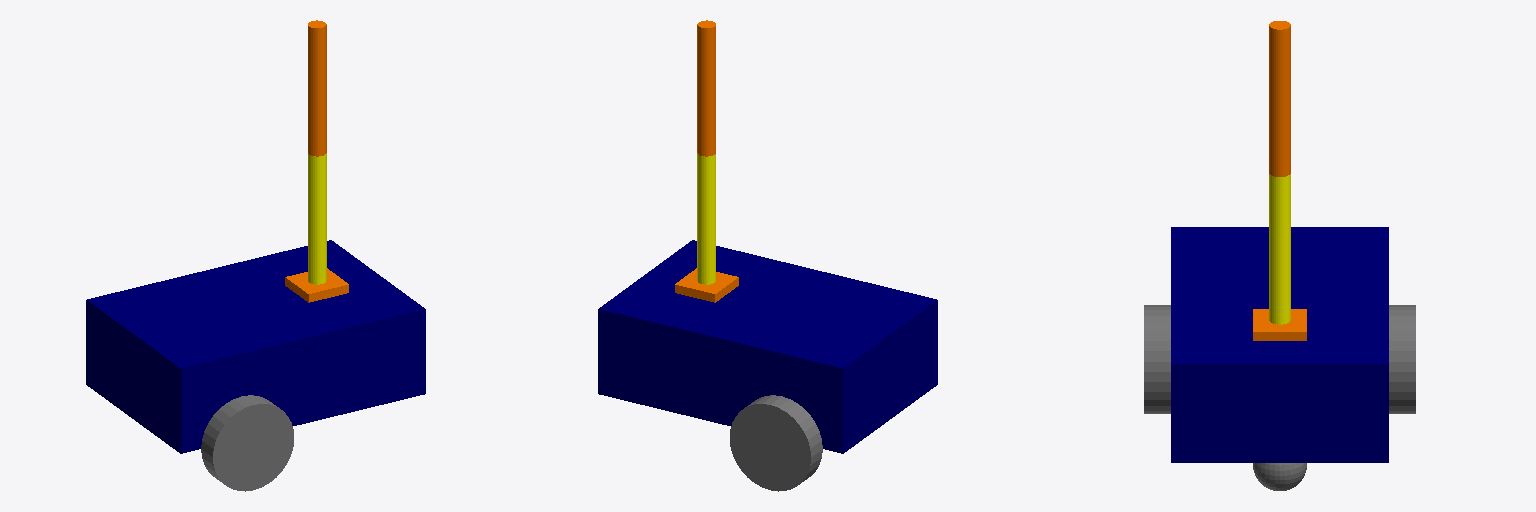
URDF robot description (my_robot):
<?xml version="1.0" ?>
<robot name="my_robot">
  <material name="blue">
    <color rgba="0 0 0.5 1"/>
  </material>
  <material name="grey">
    <color rgba="0.5 0.5 0.5 1"/>
  </material>
  <material name="orange">
    <color rgba="1.0 0.5 0 1"/>
  </material>
  <material name="yellow">
    <color rgba="1.0 1.0 0 1"/>
  </material>
  <link name="base_footprint"/>
  <link name="base_link">
    <visual>
      <geometry>
        <box size="0.6 0.4 0.2"/>
      </geometry>
      <origin rpy="0 0 0" xyz="0 0 0.1"/>
      <material name="blue"/>
    </visual>
    <collision>
      <geometry>
        <box size="0.6 0.4 0.2"/>
      </geometry>
      <origin rpy="0 0 0" xyz="0 0 0.1"/>
    </collision>
    <inertial>
      <origin rpy="0 0 0" xyz="0 0 0.1"/>
      <mass value="5.0"/>
      <inertia ixx="0.6666666666666667" ixy="0" ixz="0" iyy="0.8666666666666667" iyz="0" izz="0.3333333333333334"/>
    </inertial>
  </link>
  <link name="right_wheel_link">
    <visual>
      <geometry>
        <cylinder length="0.05" radius="0.1"/>
      </geometry>
      <origin rpy="1.5707963267948966 0 0" xyz="0 0 0"/>
      <material name="grey"/>
    </visual>
    <collision>
      <geometry>
        <cylinder length="0.05" radius="0.1"/>
      </geometry>
      <origin rpy="1.5707963267948966 0 0" xyz="0 0 0"/>
    </collision>
    <inertial>
      <origin rpy="1.5707963267948966 0 0" xyz="0 0 0"/>
      <mass value="1.0"/>
      <inertia ixx="0.010833333333333335" ixy="0" ixz="0" iyy="0.010833333333333335" iyz="0" izz="0.020000000000000004"/>
    </inertial>
  </link>
  <link name="left_wheel_link">
    <visual>
      <geometry>
        <cylinder length="0.05" radius="0.1"/>
      </geometry>
      <origin rpy="1.5707963267948966 0 0" xyz="0 0 0"/>
      <material name="grey"/>
    </visual>
    <collision>
      <geometry>
        <cylinder length="0.05" radius="0.1"/>
      </geometry>
      <origin rpy="1.5707963267948966 0 0" xyz="0 0 0"/>
    </collision>
    <inertial>
      <origin rpy="1.5707963267948966 0 0" xyz="0 0 0"/>
      <mass value="1.0"/>
      <inertia ixx="0.010833333333333335" ixy="0" ixz="0" iyy="0.010833333333333335" iyz="0" izz="0.020000000000000004"/>
    </inertial>
  </link>
  <link name="caster_wheel_link">
    <visual>
      <geometry>
        <sphere radius="0.05"/>
      </geometry>
      <origin rpy="0 0 0" xyz="0 0 0"/>
      <material name="grey"/>
    </visual>
    <collision>
      <geometry>
        <sphere radius="0.05"/>
      </geometry>
      <origin rpy="0 0 0" xyz="0 0 0"/>
    </collision>
    <inertial>
      <origin rpy="0 0 0" xyz="0 0 0"/>
      <mass value="0.5"/>
      <inertia ixx="0.0020000000000000005" ixy="0" ixz="0" iyy="0.0020000000000000005" iyz="0" izz="0.0020000000000000005"/>
    </inertial>
  </link>
  <joint name="base_joint" type="fixed">
    <parent link="base_footprint"/>
    <child link="base_link"/>
    <origin rpy="0 0 0" xyz="0 0 0.1"/>
  </joint>
  <joint name="base_right_wheel_joint" type="continuous">
    <parent link="base_link"/>
    <child link="right_wheel_link"/>
    <origin rpy="0 0 0" xyz="-0.15 -0.225 0"/>
    <axis xyz="0 1 0"/>
  </joint>
  <joint name="base_left_wheel_joint" type="continuous">
    <parent link="base_link"/>
    <child link="left_wheel_link"/>
    <origin rpy="0 0 0" xyz="-0.15 0.225 0"/>
    <axis xyz="0 1 0"/>
  </joint>
  <joint name="base_caster_wheel_joint" type="fixed">
    <parent link="base_link"/>
    <child link="caster_wheel_link"/>
    <origin rpy="0 0 0" xyz="0.19999999999999998 0 -0.05"/>
  </joint>
  <gazebo reference="base_link">
    <material>Gazebo/Blue</material>
  </gazebo>
  <gazebo reference="right_wheel_link">
    <material>Gazebo/Grey</material>
  </gazebo>
  <gazebo reference="left_wheel_link">
    <material>Gazebo/Grey</material>
  </gazebo>
  <gazebo reference="caster_wheel_link">
    <material>Gazebo/Grey</material>
    <mu1 value="0.1"/>
    <mu2 value="0.1"/>
  </gazebo>
  <gazebo>
    <plugin filename="libgazebo_ros_diff_drive.so" name="diff_drive_controller">
      <!-- Update rate in Hz -->
      <update_rate>50</update_rate>
      <!-- wheels -->
      <left_joint>base_left_wheel_joint</left_joint>
      <right_joint>base_right_wheel_joint</right_joint>
      <!-- kinematics -->
      <wheel_separation>0.45</wheel_separation>
      <wheel_diameter>0.2</wheel_diameter>
      <!-- output -->
      <publish_odom>true</publish_odom>
      <publish_odom_tf>true</publish_odom_tf>
      <publish_wheel_tf>true</publish_wheel_tf>
      <odometry_topic>odom</odometry_topic>
      <odometry_frame>odom</odometry_frame>
      <robot_base_frame>base_footprint</robot_base_frame>
    </plugin>
  </gazebo>
  <link name="arm_base_link">
    <visual>
      <geometry>
        <box size="0.1 0.1 0.02"/>
      </geometry>
      <origin rpy="0 0 0" xyz="0 0 0.01"/>
      <material name="orange"/>
    </visual>
    <collision>
      <geometry>
        <box size="0.1 0.1 0.02"/>
      </geometry>
      <origin rpy="0 0 0" xyz="0 0 0.01"/>
    </collision>
    <inertial>
      <origin rpy="0 0 0" xyz="0 0 0.01"/>
      <mass value="0.5"/>
      <inertia ixx="0.0017333333333333335" ixy="0" ixz="0" iyy="0.003333333333333334" iyz="0" izz="0.0017333333333333335"/>
    </inertial>
  </link>
  <link name="forearm_link">
    <visual>
      <geometry>
        <cylinder length="0.3" radius="0.02"/>
      </geometry>
      <origin rpy="0 0 0" xyz="0 0 0.15"/>
      <material name="yellow"/>
    </visual>
    <collision>
      <geometry>
        <cylinder length="0.3" radius="0.02"/>
      </geometry>
      <origin rpy="0 0 0" xyz="0 0 0.15"/>
    </collision>
    <inertial>
      <origin rpy="0 0 0" xyz="0 0 0.15"/>
      <mass value="0.3"/>
      <inertia ixx="0.00912" ixy="0" ixz="0" iyy="0.00912" iyz="0" izz="0.00024"/>
    </inertial>
  </link>
  <link name="hand_link">
    <visual>
      <geometry>
        <cylinder length="0.3" radius="0.02"/>
      </geometry>
      <origin rpy="0 0 0" xyz="0 0 0.15"/>
      <material name="orange"/>
    </visual>
    <collision>
      <geometry>
        <cylinder length="0.3" radius="0.02"/>
      </geometry>
      <origin rpy="0 0 0" xyz="0 0 0.15"/>
    </collision>
    <inertial>
      <origin rpy="0 0 0" xyz="0 0 0.15"/>
      <mass value="0.3"/>
      <inertia ixx="0.00912" ixy="0" ixz="0" iyy="0.00912" iyz="0" izz="0.00024"/>
    </inertial>
  </link>
  <joint name="arm_base_forearm_joint" type="revolute">
    <parent link="arm_base_link"/>
    <child link="forearm_link"/>
    <origin rpy="0 0 0" xyz="0 0 0.02"/>
    <axis xyz="0 1 0"/>
    <limit effort="100" lower="0" upper="1.5707963267948966" velocity="100"/>
    <dynamics damping="0.1" friction="0.05"/>
  </joint>
  <joint name="forearm_hand_joint" type="revolute">
    <parent link="forearm_link"/>
    <child link="hand_link"/>
    <origin rpy="0 0 0" xyz="0 0 0.3"/>
    <axis xyz="0 1 0"/>
    <limit effort="100" lower="0" upper="1.5707963267948966" velocity="100"/>
    <dynamics damping="0.1" friction="0.05"/>
  </joint>
  <gazebo reference="arm_base_link">
    <material>Gazebo/Orange</material>
  </gazebo>
  <gazebo reference="forearm_link">
    <material>Gazebo/Yellow</material>
  </gazebo>
  <gazebo reference="hand_link">
    <material>Gazebo/Orange</material>
  </gazebo>
  <gazebo>
    <plugin filename="libgazebo_ros_joint_state_publisher.so" name="joint_state_publisher_controller">
      <!-- Update rate in Hertz -->
      <update_rate>10</update_rate>
      <!-- Name of joints in the model whose states will be published. -->
      <joint_name>arm_base_forearm_joint</joint_name>
      <joint_name>forearm_hand_joint</joint_name>
    </plugin>
  </gazebo>
  <gazebo>
    <plugin filename="libgazebo_ros_joint_pose_trajectory.so" name="joint_pose_trajectory_controller">
      <!-- Update rate in Hz -->
      <update_rate>2</update_rate>
    </plugin>
  </gazebo>
  <joint name="mobile_base_arm_joint" type="fixed">
    <parent link="base_link"/>
    <child link="arm_base_link"/>
    <origin rpy="0 0 0" xyz="0.15 0 0.2"/>
  </joint>
  <!-- <xacro:include filename="camera.xacro" /> -->
</robot>

--- Facts derived from the render (not from the file) ---
Views: 3 orthographic renders of the robot side by side, from view 1: azimuth 30°, elevation 25°; view 2: azimuth 150°, elevation 25°; view 3: azimuth 270°, elevation 25°.
Model my_robot with 8 links and 7 joints (2 revolute, 2 continuous, 3 fixed), rooted at base_footprint, posed every joint at zero.
Visible links, largest first — view 1: base_link, right_wheel_link, hand_link, forearm_link, arm_base_link; view 2: base_link, left_wheel_link, hand_link, forearm_link, arm_base_link; view 3: base_link, hand_link, forearm_link, right_wheel_link, left_wheel_link, arm_base_link, caster_wheel_link.
Link boxes in pixels (x1,y1,x2,y2): base_link: (86, 240, 425, 453); right_wheel_link: (201, 395, 293, 491); hand_link: (308, 20, 326, 156); forearm_link: (308, 153, 326, 284); arm_base_link: (285, 268, 348, 302); base_link: (598, 240, 937, 453); left_wheel_link: (730, 395, 822, 491); hand_link: (697, 20, 715, 156); forearm_link: (697, 153, 715, 284); arm_base_link: (675, 268, 738, 302); base_link: (1171, 227, 1388, 462); hand_link: (1269, 21, 1290, 176); forearm_link: (1269, 174, 1290, 324); right_wheel_link: (1144, 305, 1170, 413); left_wheel_link: (1389, 305, 1415, 413); arm_base_link: (1253, 309, 1306, 340); caster_wheel_link: (1253, 463, 1306, 490).
Bounding box of the posed robot: 0.6 × 0.5 × 0.92 m (x, y, z).
Geometry: primitives only (box / cylinder / sphere), no mesh files.